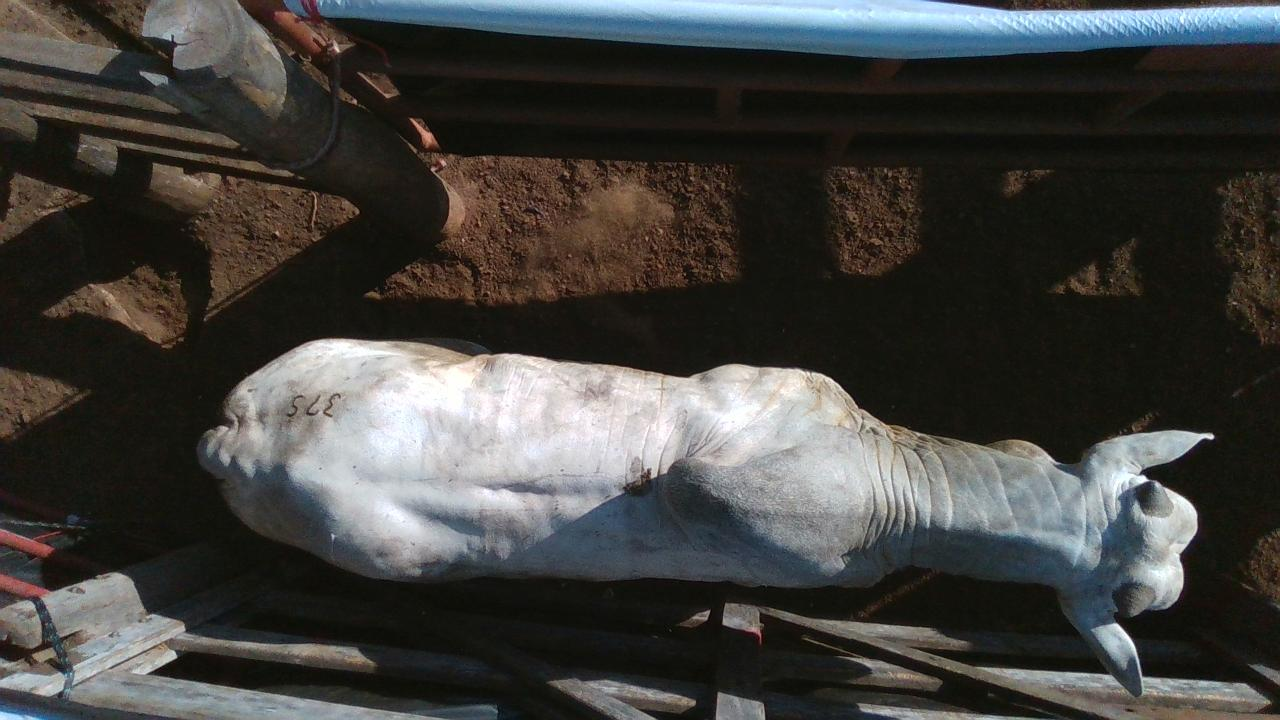cattle: (195, 334, 1215, 698)
